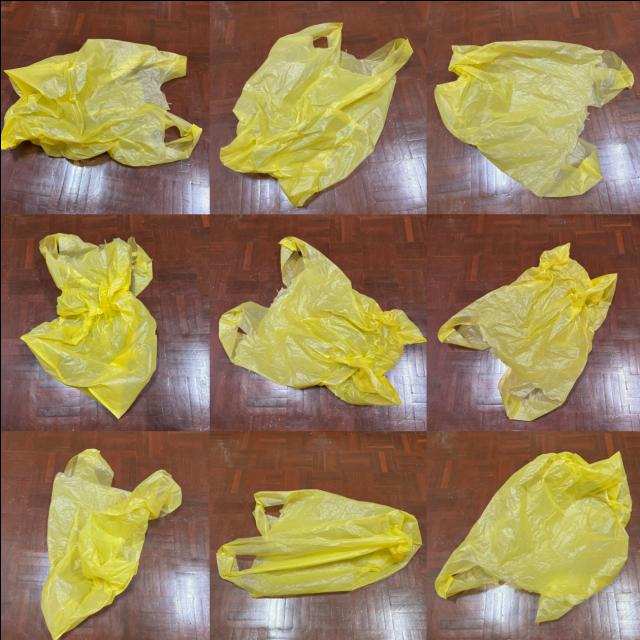plastik: (219, 22, 411, 206), (218, 235, 424, 404), (434, 451, 631, 621), (437, 243, 616, 420), (434, 40, 632, 195), (40, 448, 180, 639), (0, 38, 200, 165), (21, 233, 156, 417), (216, 488, 420, 596)
